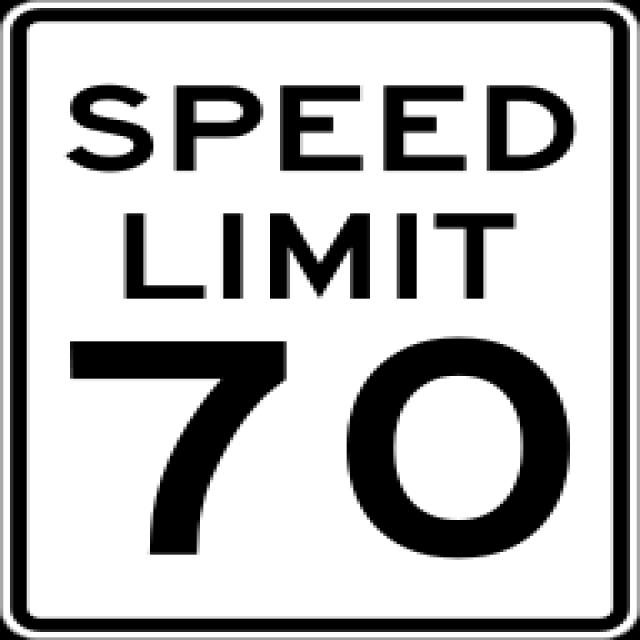Speed Limit -70-: (46, 57, 603, 588)
